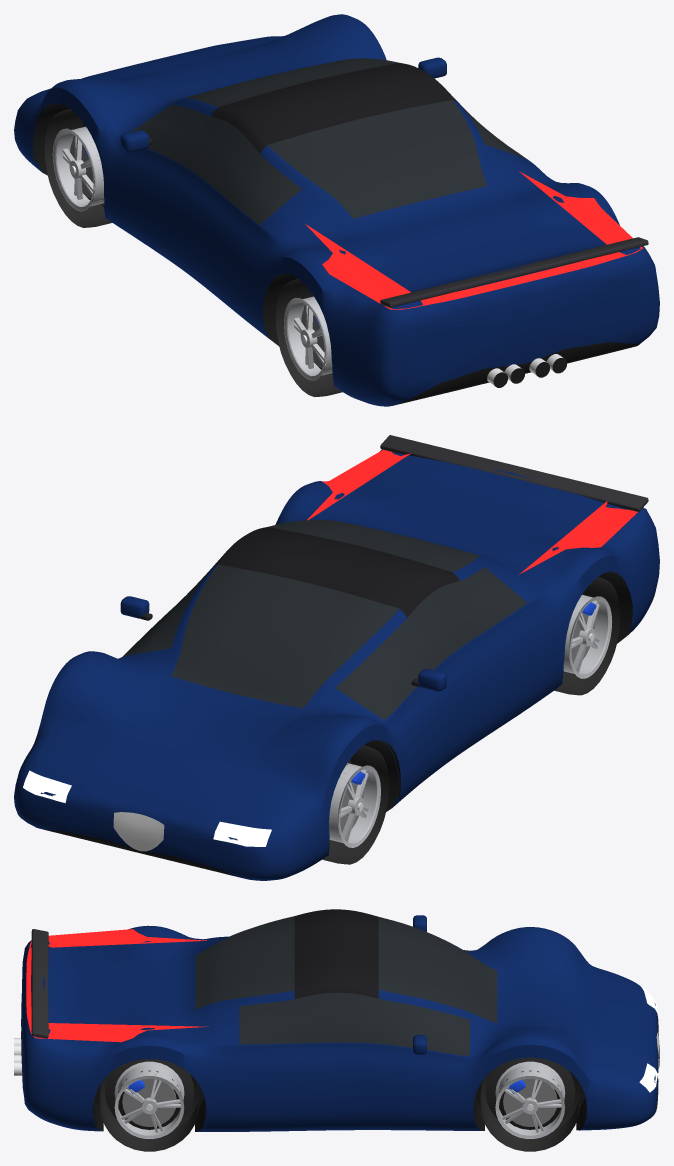
The model's file is chiron.glb.
3 views of the same model, one above another, from view 1: azimuth 30°, elevation 25°; view 2: azimuth 150°, elevation 25°; view 3: azimuth 270°, elevation 25° (orthographic). The views are drawn at different scales.
Visible parts, largest first — view 1: Body, Wheel_FL, Wheel_RL; view 2: Body, Wheel_FL, Wheel_RL; view 3: Body, Wheel_FR, Wheel_RR.
Part boxes in pixels (x1,y1,x2,y2): Body: (14,14,659,406); Wheel_FL: (44,108,112,227); Wheel_RL: (275,278,342,396); Body: (14,435,659,880); Wheel_FL: (322,745,389,864); Wheel_RL: (554,577,620,695); Body: (14,909,659,1131); Wheel_FR: (480,1057,580,1151); Wheel_RR: (99,1059,199,1151).
Bounding box in the file's own units: 2.18 × 1.19 × 4.6.
